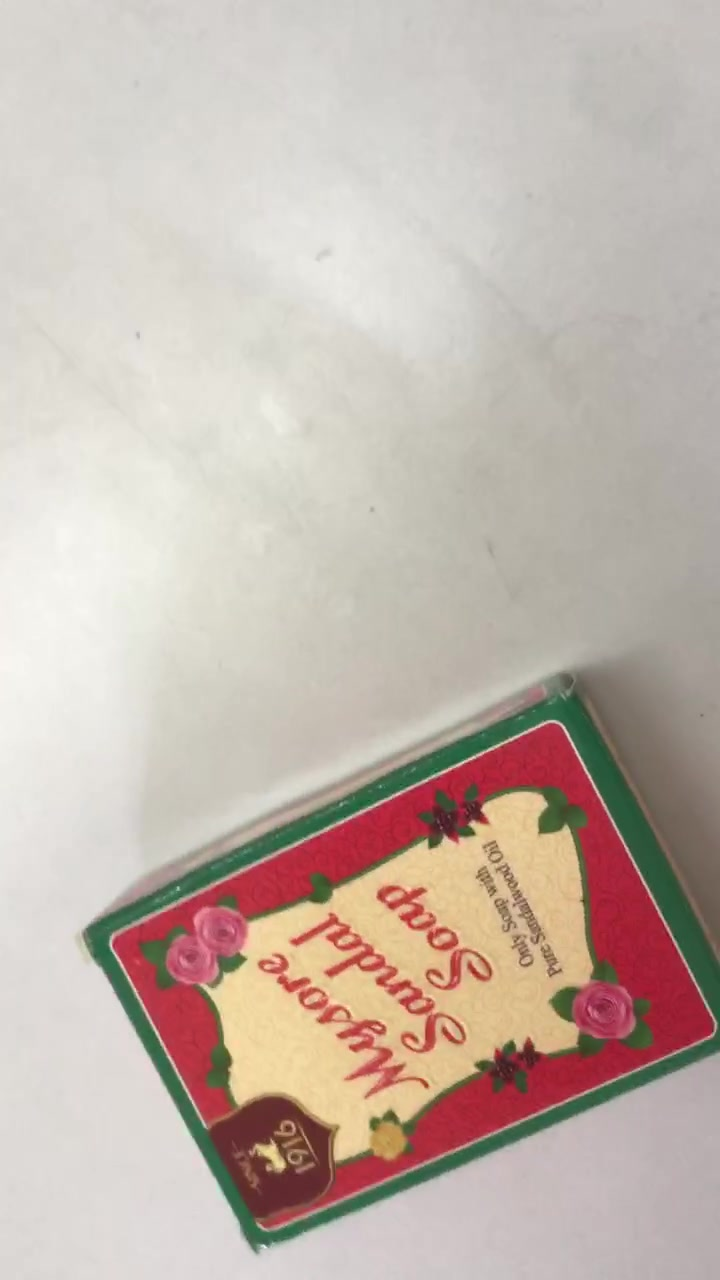mysore sandal soap: (77, 675, 720, 1254)
